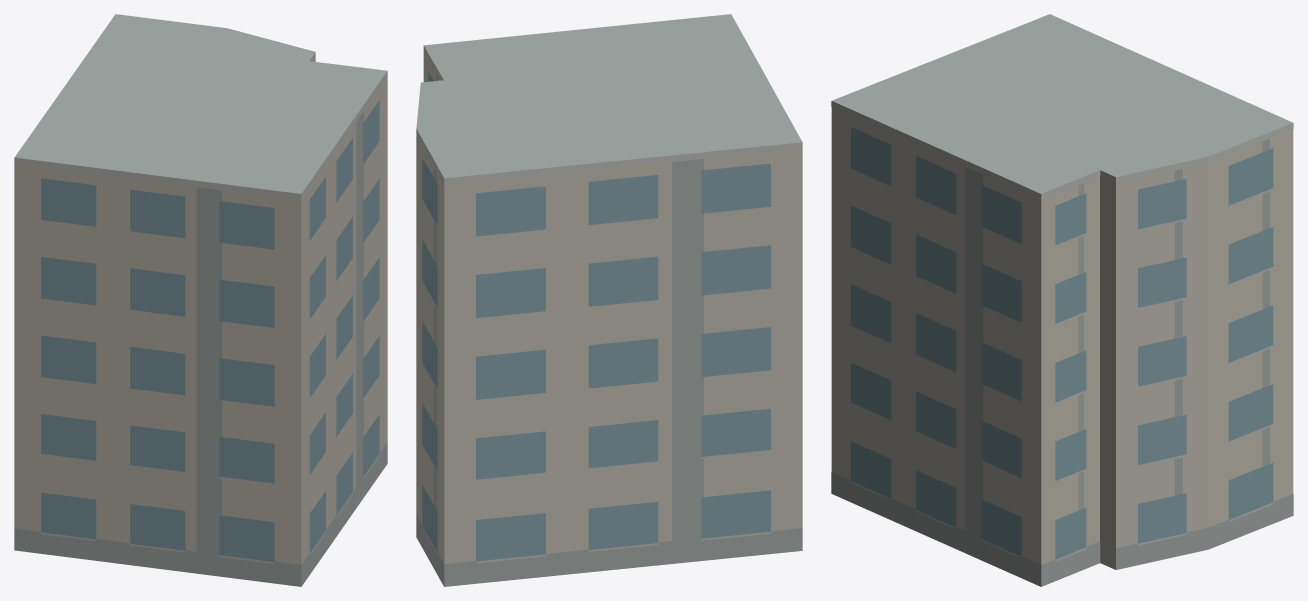
Rendered from survey-upis-32812917.glb.
3 views of the same model, side by side, from view 1: azimuth 30°, elevation 25°; view 2: azimuth 150°, elevation 25°; view 3: azimuth 270°, elevation 25° (orthographic). The views are drawn at different scales.
Visible parts, largest first — view 1: survey-upis-32812917.tmp; view 2: survey-upis-32812917.tmp; view 3: survey-upis-32812917.tmp.
Boxes of the visible parts, x1,y1,x2,y2 form: survey-upis-32812917.tmp: [14, 14, 387, 586]; survey-upis-32812917.tmp: [416, 14, 802, 586]; survey-upis-32812917.tmp: [831, 14, 1293, 586].
Size of the model in its own units: 14.56 by 14.82 by 15.79.
